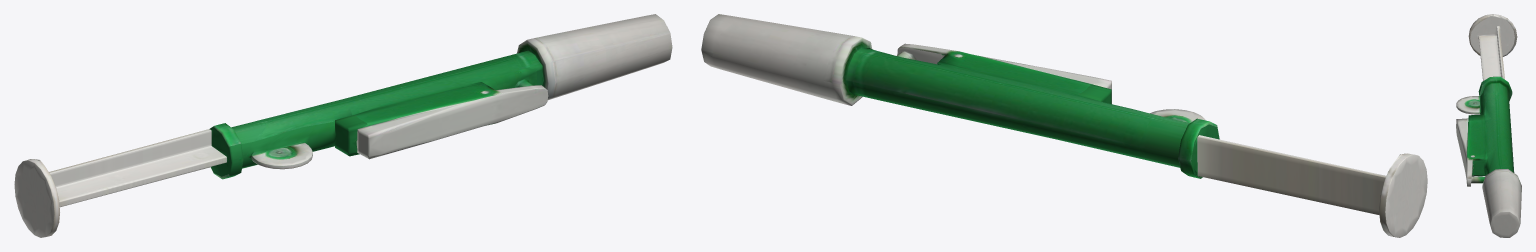
Rendered from pipette01.fbx.
3 renders of one model, left to right at view 1: azimuth 30°, elevation 25°; view 2: azimuth 150°, elevation 25°; view 3: azimuth 270°, elevation 25°, orthographic. The views are drawn at different scales.
Visible parts, largest first — view 1: Pipette_01; view 2: Pipette_01; view 3: Pipette_01.
Boxes of the visible parts, x1,y1,x2,y2 form: Pipette_01: (14,14,672,237); Pipette_01: (701,14,1427,237); Pipette_01: (1456,14,1521,237).
Size of the model in its own units: 0.1961 by 0.0218 by 0.029.
